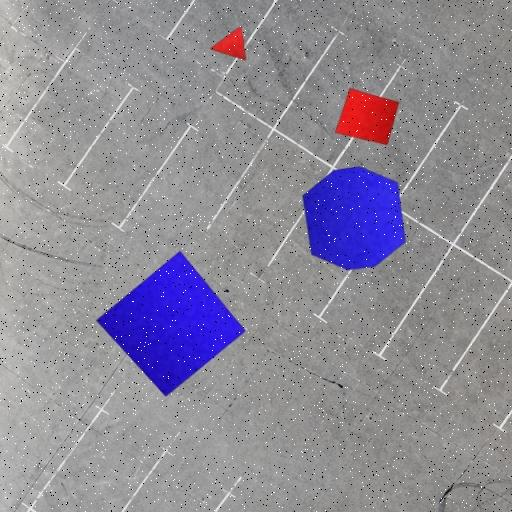BLUE_SQUARE: (96, 250, 246, 398)
RED_SQUARE: (334, 88, 400, 146)
